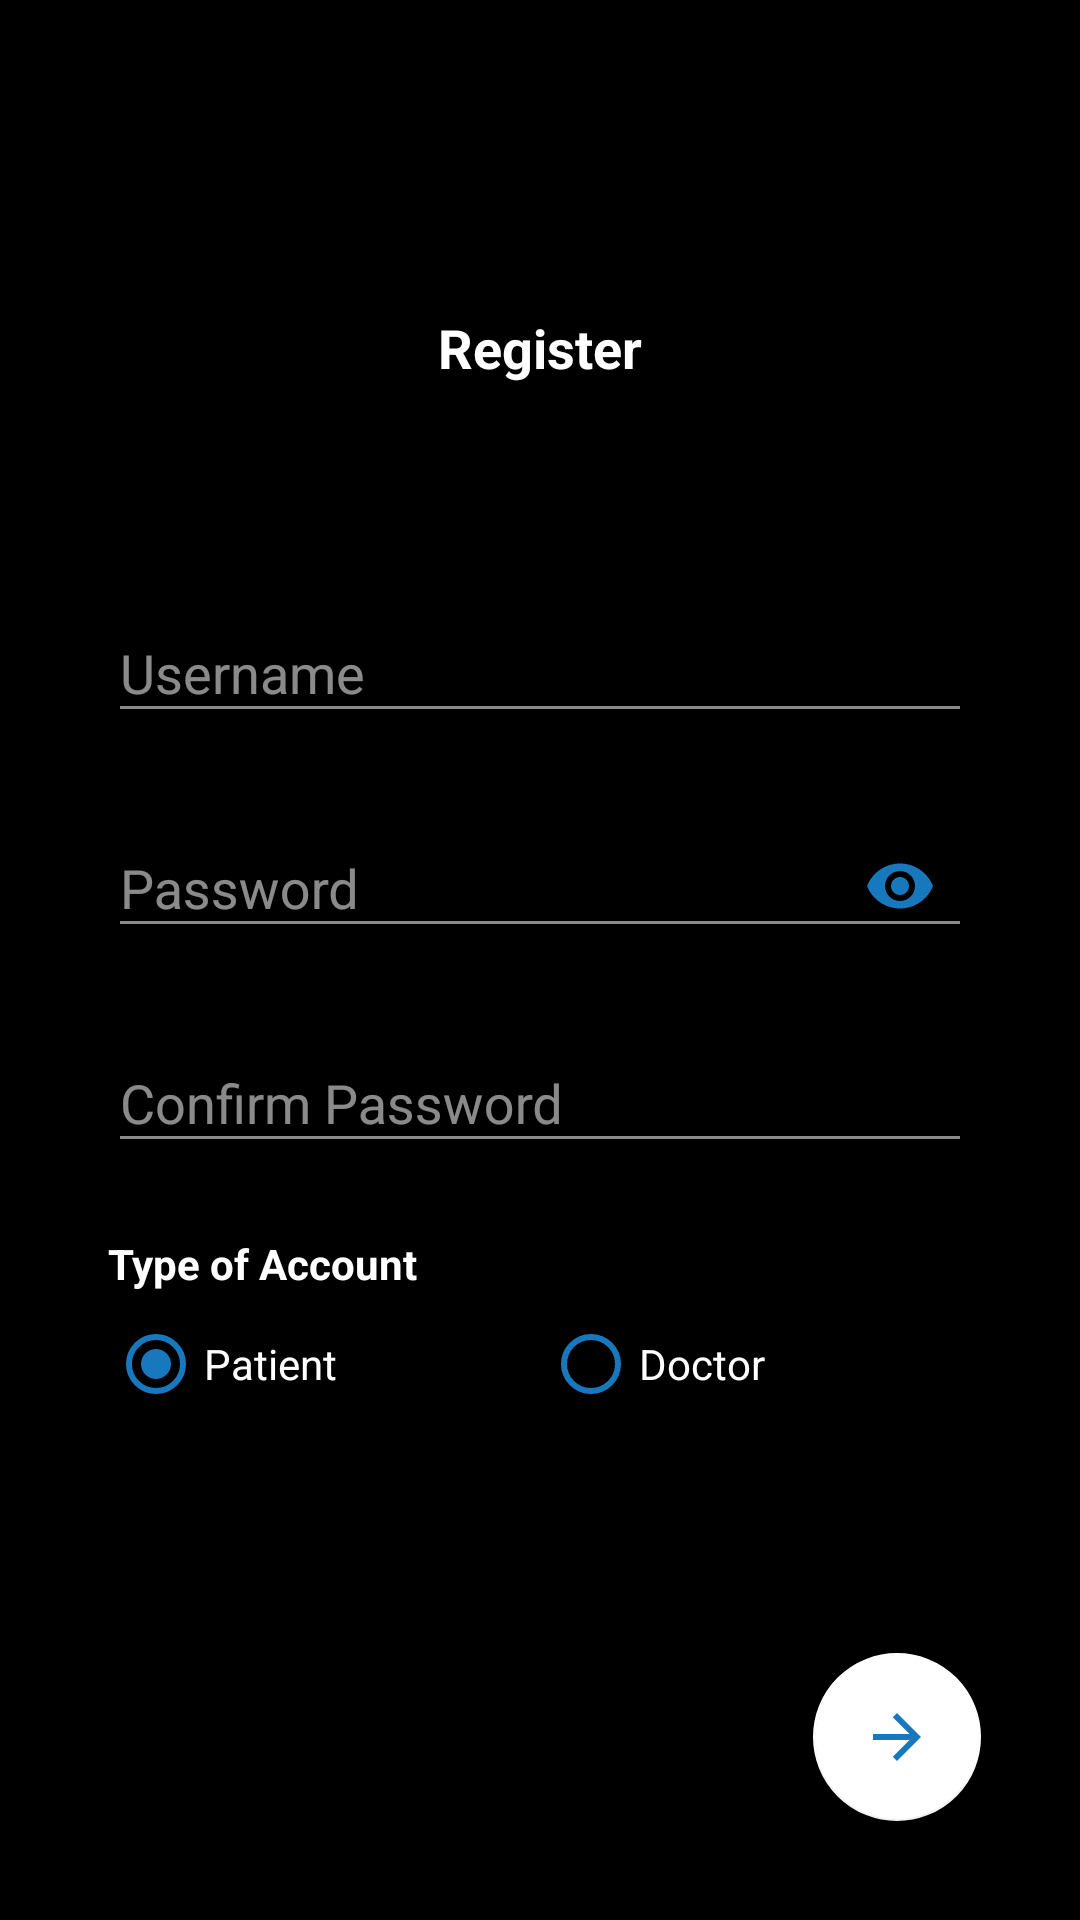

Where icons sit on this 1080px×1920px app screen, as (x1, y1, x2, y2):
arrow forward: (813, 1653, 981, 1821)
